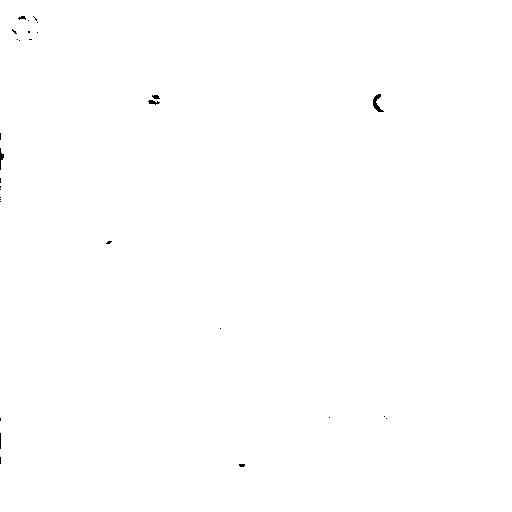micro-algae: (11, 8, 40, 42), (356, 408, 385, 435), (1, 136, 21, 175), (99, 237, 124, 263), (229, 447, 254, 471), (372, 90, 396, 114), (0, 424, 18, 456)
